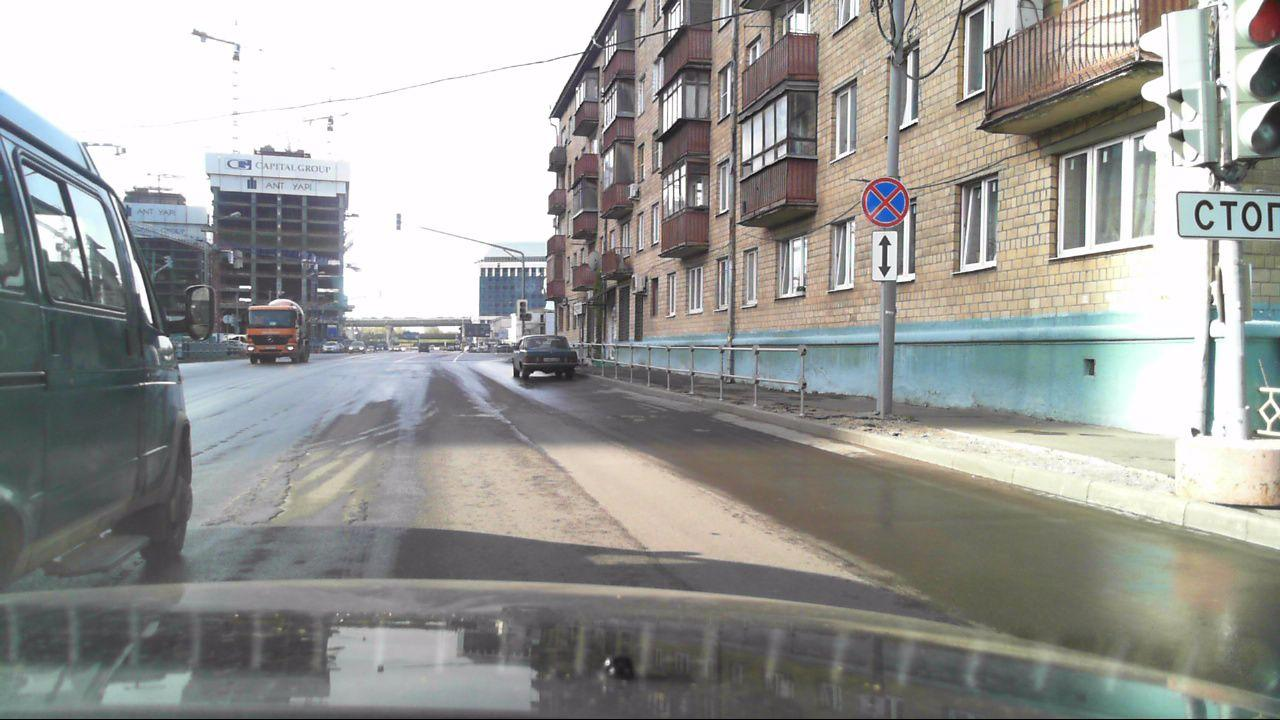3_27: (864, 179, 911, 226)
6_16: (1174, 189, 1280, 238)
8_2_4: (874, 230, 900, 280)
